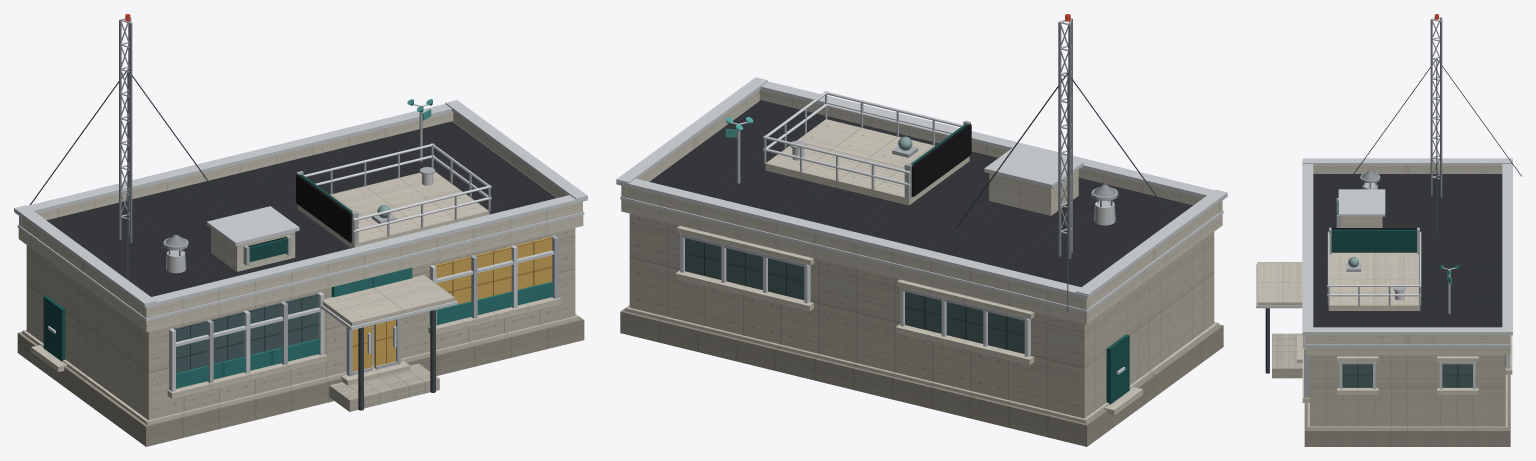
File: fun-4-built.glb
The picture shows the model from 3 angles, left to right: view 1: azimuth 30°, elevation 25°; view 2: azimuth 150°, elevation 25°; view 3: azimuth 270°, elevation 25°; orthographic projection. The views are drawn at different scales.
Bounding box in the file's own units: 19.88 × 15.14 × 12.78.
28 materials, 19 textured.
